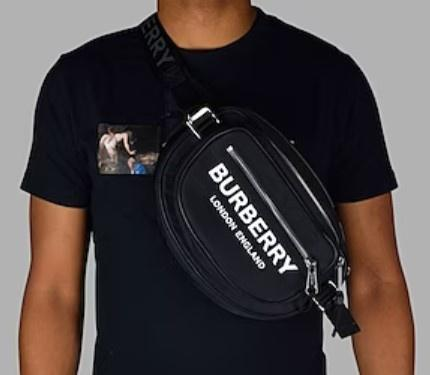BURBERRY: (208, 162, 299, 274)
